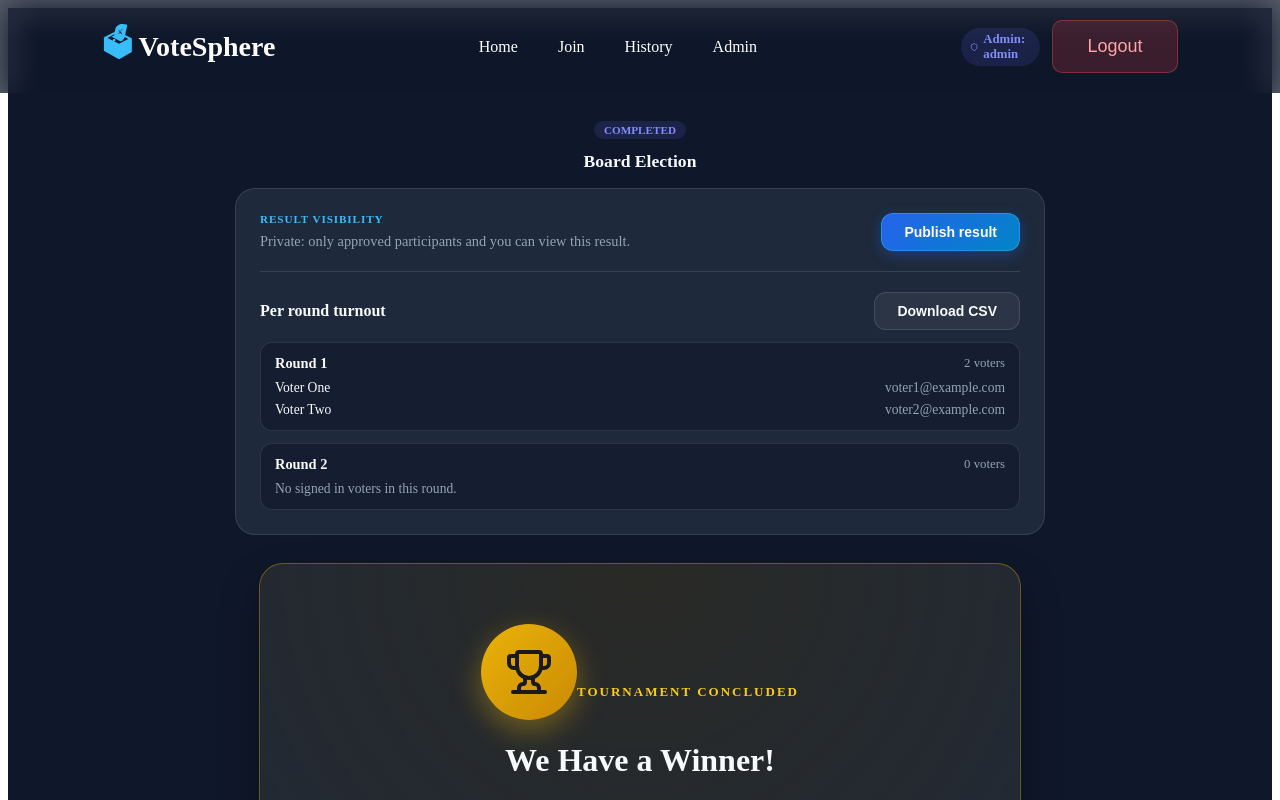
Test: Results page admin controls (AC-7, AC-12) › leaves the toggle alone when an error belongs to a different admin action
The image size is (1280, 800).
Click the button with test id "publish-results-toggle": (951, 232) [881,213,1020,251]
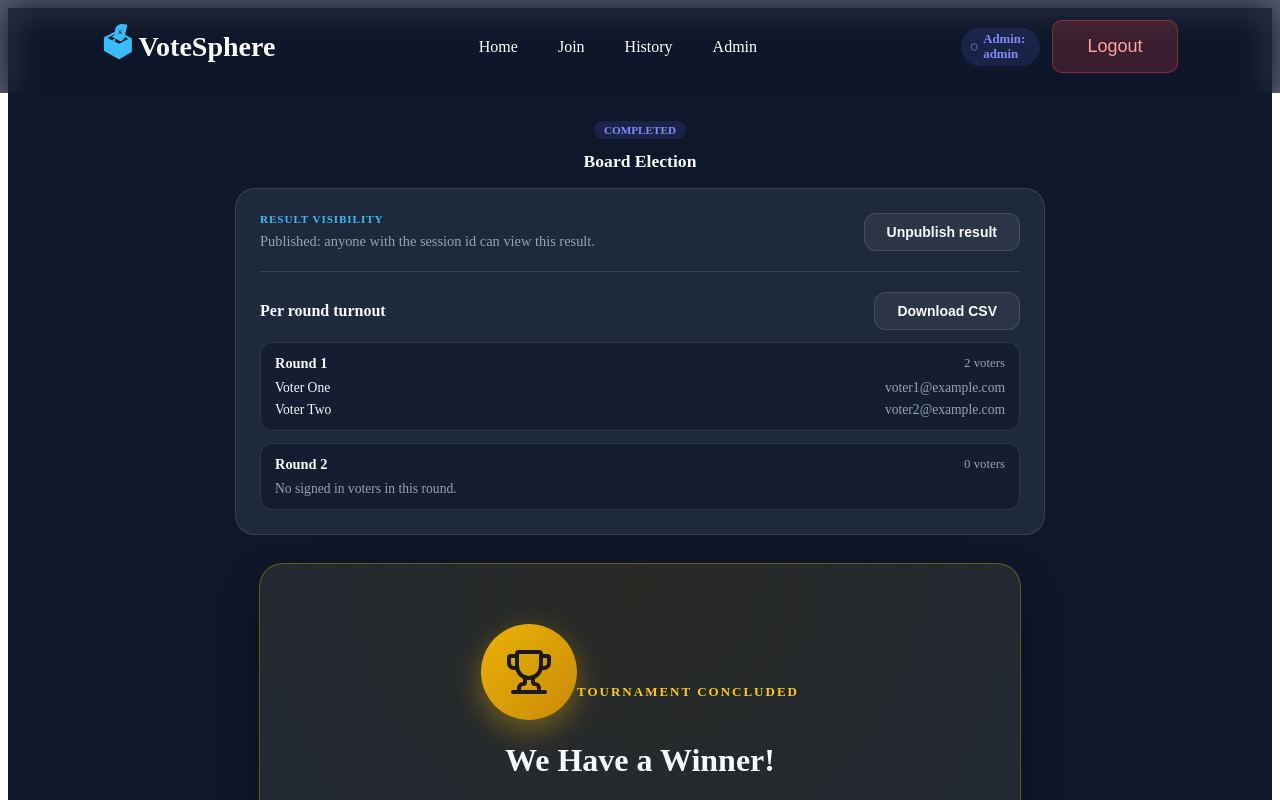
Now the button with test id "publish-results-toggle" reads "Unpublish result", box [864,213,1020,251]
